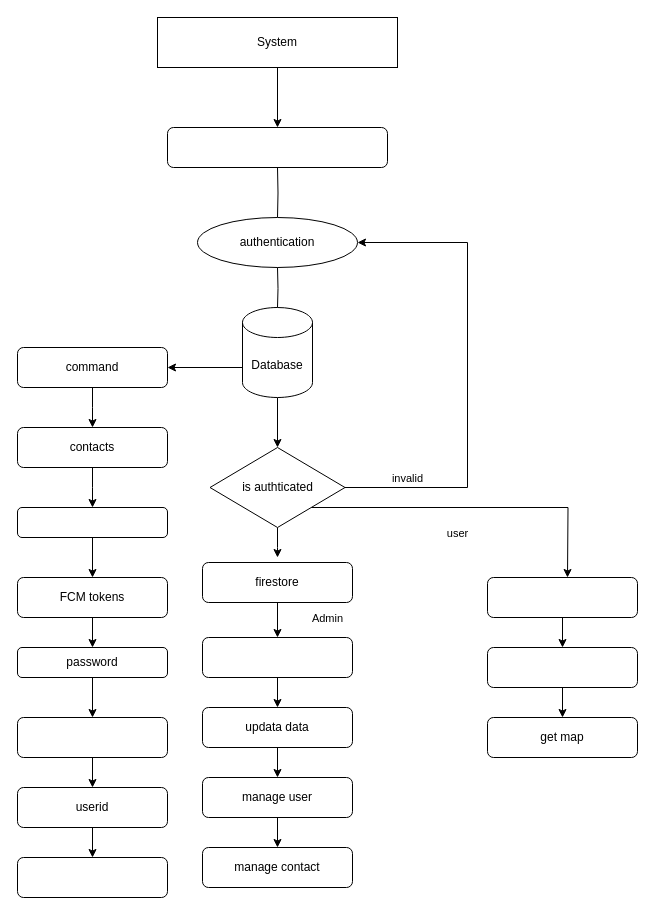
Image size: 655x915. Some labels were removed from this diagram. The shapes that lost their labels are listed below. From the top down, each one's box as (x1, y1, x2, y2) in pixels, then its label:
(166, 126, 388, 168): Login or Register
(16, 506, 168, 538): email
(486, 576, 638, 618): notification
(202, 636, 352, 678): manage data
(486, 646, 638, 688): confirmation
(16, 716, 168, 758): phone
(16, 856, 168, 898): username
